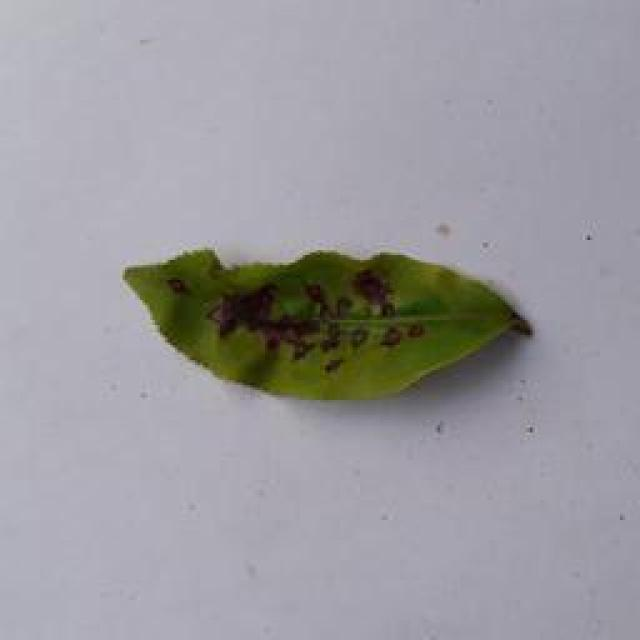Helopeltis: (106, 233, 546, 414)
